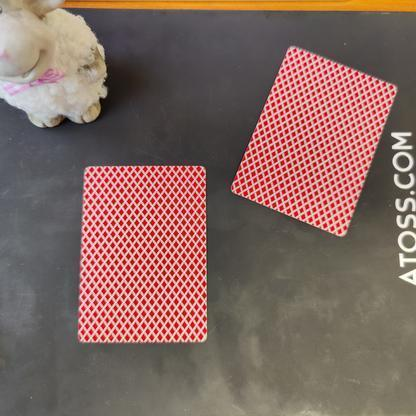card: (225, 34, 404, 245), (68, 152, 218, 354)
